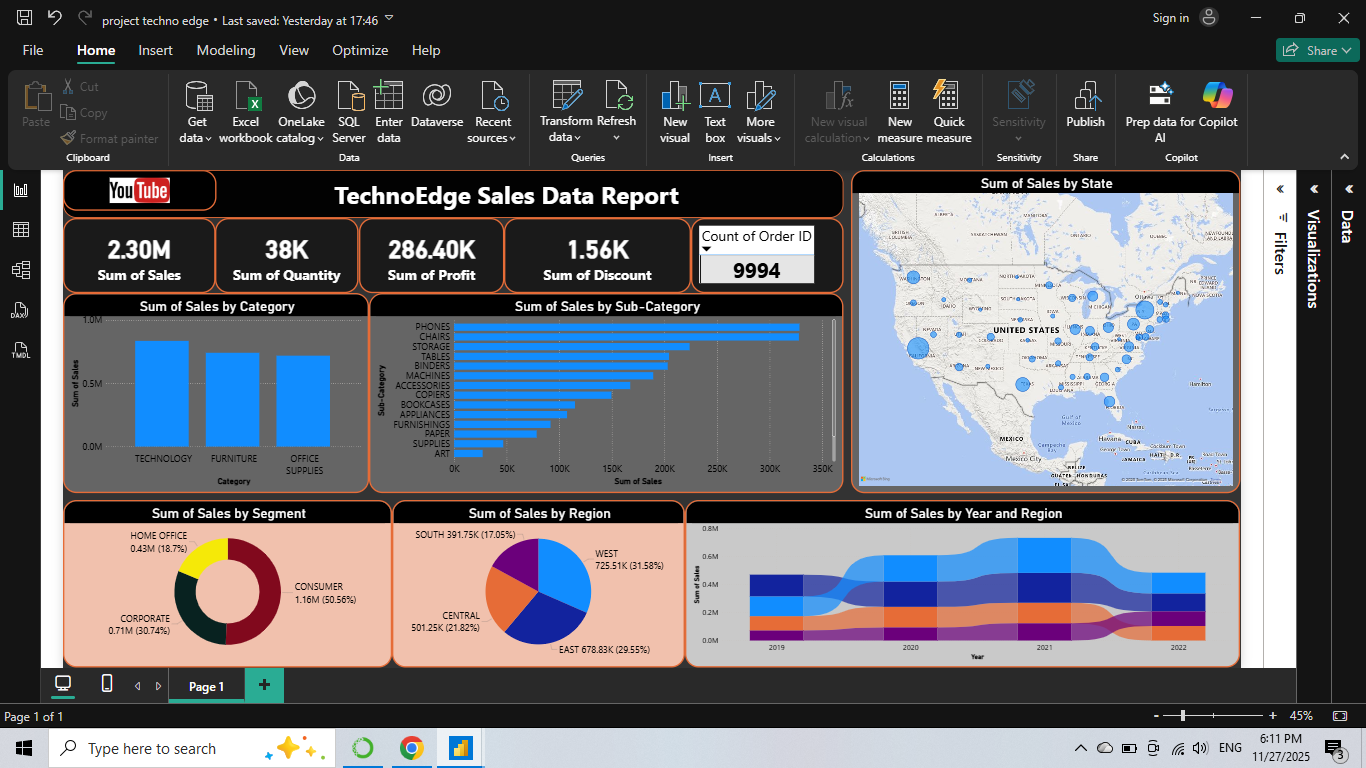

The dashboard page shown, as its layout file describes it:
{"tool":"powerbi","page":{"name":"Page 1","canvas":[2600,1100],"ordinal":0},"visuals":[{"type":"clusteredBarChart","fields":{"Category":["combined data.Sub-Category"],"Y":["Sum(combined data.Sales)"]},"box":[675.7,240.2,1048.4,473.7],"z":0},{"type":"pieChart","fields":{"Category":["combined data.Region"],"Y":["Sum(combined data.Sales)"]},"box":[727.3,713.9,646.5,386.1],"z":1000},{"type":"donutChart","fields":{"Category":["combined data.Segment"],"Y":["Sum(combined data.Sales)"]},"box":[0,713.9,727.3,386.1],"z":2000},{"type":"columnChart","fields":{"Category":["combined data.Category"],"Y":["Sum(combined data.Sales)"]},"box":[0,240.2,675.7,473.7],"z":3000},{"type":"ribbonChart","fields":{"Y":["Sum(combined data.Sales)"],"Series":["combined data.Region"],"Category":["combined data.Order Date.Variation.Date Hierarchy.Year","combined data.Order Date.Variation.Date Hierarchy.Quarter"]},"box":[1373.9,713.9,1225.7,386.1],"z":4000},{"type":"textbox","box":[0,0,1724.5,89.2],"z":5000},{"type":"map","fields":{"Category":["combined data.State"],"Size":["Sum(combined data.Sales)"]},"box":[1724.1,44.9,875.5,669],"z":6000},{"type":"card","fields":{"Values":["Sum(combined data.Sales)"]},"box":[0,89.2,337.7,151.9],"z":6001},{"type":"card","fields":{"Values":["Sum(combined data.Quantity)"]},"box":[337.7,89.2,316,151.9],"z":6002},{"type":"card","fields":{"Values":["Sum(combined data.Profit)"]},"box":[653.6,89.2,320.8,151.9],"z":6003},{"type":"card","fields":{"Values":["Sum(combined data.Discount)"]},"box":[974.4,89.2,412.4,151.9],"z":6004},{"type":"tableEx","fields":{"Values":["combined data.Order ID"]},"box":[1386.8,89.2,337.7,151.9],"z":6005},{"type":"image","box":[65.1,0,298.6,89.8],"z":6006}]}

Visuals, with their boxes on the page's 2600x1100 design canvas (x1, y1, x2, y2). These are canvas units, not pixel positions in the 1366x768 screenshot, which may show the page scaled, cropped or inside an application window:
clusteredBarChart - combined data.Sub-Category x Sum(combined data.Sales): [x1=676, y1=240, x2=1724, y2=714]
pieChart - combined data.Region x Sum(combined data.Sales): [x1=727, y1=714, x2=1374, y2=1100]
donutChart - combined data.Segment x Sum(combined data.Sales): [x1=0, y1=714, x2=727, y2=1100]
columnChart - combined data.Category x Sum(combined data.Sales): [x1=0, y1=240, x2=676, y2=714]
ribbonChart - Sum(combined data.Sales) x combined data.Region: [x1=1374, y1=714, x2=2600, y2=1100]
textbox: [x1=0, y1=0, x2=1724, y2=89]
map - combined data.State x Sum(combined data.Sales): [x1=1724, y1=45, x2=2600, y2=714]
card - Sum(combined data.Sales): [x1=0, y1=89, x2=338, y2=241]
card - Sum(combined data.Quantity): [x1=338, y1=89, x2=654, y2=241]
card - Sum(combined data.Profit): [x1=654, y1=89, x2=974, y2=241]
card - Sum(combined data.Discount): [x1=974, y1=89, x2=1387, y2=241]
tableEx - combined data.Order ID: [x1=1387, y1=89, x2=1724, y2=241]
image: [x1=65, y1=0, x2=364, y2=90]
